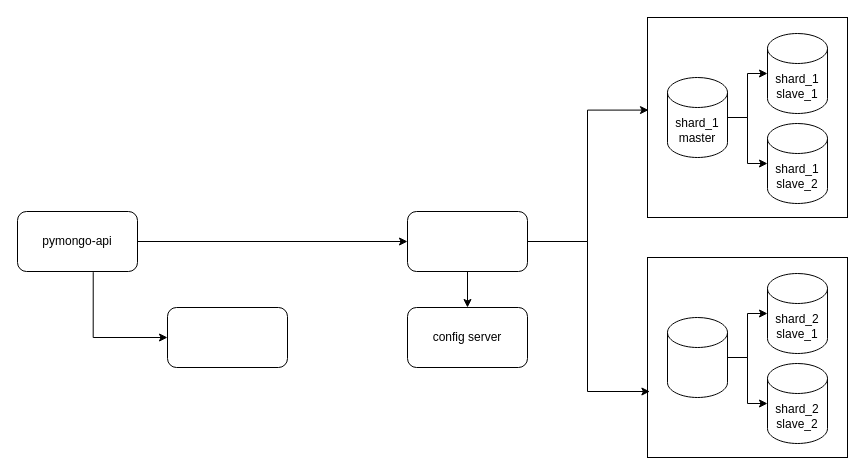
This 865x475 diagram has some shape labels left out. The shapes that lost their labels are listed below. From the top down, each one's centre as x and y in pixels, then its label:
point 467,241: mongo router (mongos)
point 227,337: redis cache
point 697,357: shard_2 master
